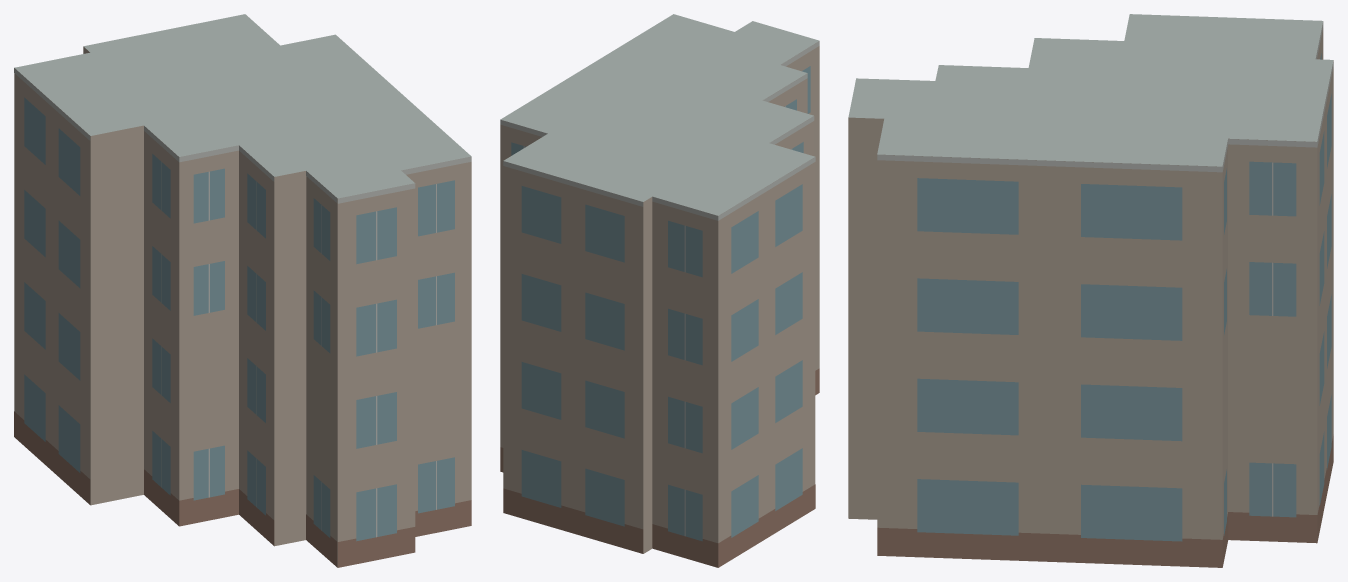
File: survey-upis-32971738.glb
3 views of the same model, side by side, from view 1: azimuth 30°, elevation 25°; view 2: azimuth 150°, elevation 25°; view 3: azimuth 270°, elevation 25° (orthographic). The views are drawn at different scales.
Parts seen in each view (by area): view 1: survey-upis-32971738.tmp; view 2: survey-upis-32971738.tmp; view 3: survey-upis-32971738.tmp.
Part boxes in pixels (x1=…): survey-upis-32971738.tmp: x1=14, y1=14, x2=471, y2=567; survey-upis-32971738.tmp: x1=500, y1=14, x2=819, y2=567; survey-upis-32971738.tmp: x1=848, y1=14, x2=1333, y2=567.
Size of the model in its own units: 14.04 by 17.2 by 18.86.
